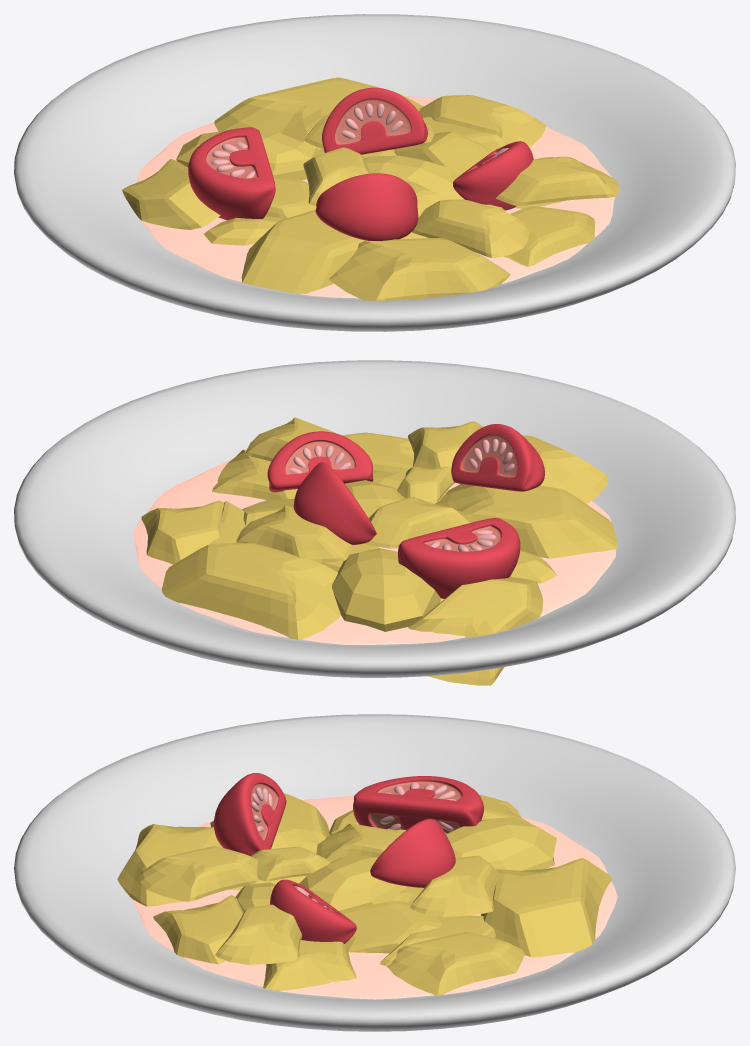
The model's file is tomato scramble egg.fbx.
3 renders of one model, top to bottom at view 1: azimuth 30°, elevation 25°; view 2: azimuth 150°, elevation 25°; view 3: azimuth 270°, elevation 25°, orthographic.
Parts seen in each view (by area): view 1: Circle.002, Circle.003, Cube.035, Cube.026, Tomato.007, Tomato.010, Tomato.009, Cube.022, Cube.040, Cube.038, Cube.025, Cube.041 (+11 smaller); view 2: Circle.002, Cube.022, Circle.003, Cube.026, Tomato.007, Cube.023, Cube.025, Tomato.010, Tomato.008, Tomato.009, Cube.039, Cube.041 (+11 smaller); view 3: Circle.002, Circle.003, Cube.022, Tomato.007, Cube.041, Cube.040, Tomato.010, Cube.023, Tomato.009, Cube.038, Cube.039, Cube.034 (+11 smaller).
Boxes of the visible parts, x1,y1,x2,y2 form: Circle.002: [14, 14, 735, 331]; Circle.003: [137, 96, 614, 298]; Cube.035: [329, 238, 510, 300]; Cube.026: [241, 210, 427, 293]; Tomato.007: [188, 127, 275, 220]; Tomato.010: [315, 173, 418, 240]; Tomato.009: [322, 87, 427, 154]; Cube.022: [214, 77, 423, 149]; Cube.040: [412, 199, 529, 257]; Cube.038: [495, 156, 619, 205]; Cube.025: [122, 159, 220, 229]; Cube.041: [419, 95, 545, 147]; Circle.002: [14, 360, 735, 677]; Cube.022: [162, 543, 340, 639]; Circle.003: [134, 461, 615, 644]; Cube.026: [435, 484, 617, 558]; Tomato.007: [398, 518, 520, 598]; Cube.023: [332, 548, 440, 631]; Cube.025: [408, 577, 543, 685]; Tomato.010: [451, 424, 544, 491]; Tomato.008: [267, 431, 373, 492]; Tomato.009: [293, 462, 376, 544]; Cube.039: [236, 505, 353, 562]; Cube.041: [141, 500, 223, 564]; Circle.002: [14, 714, 735, 1031]; Circle.003: [133, 795, 617, 999]; Cube.022: [481, 858, 611, 957]; Tomato.007: [353, 776, 483, 833]; Cube.041: [387, 932, 524, 995]; Cube.040: [140, 846, 259, 901]; Tomato.010: [214, 773, 286, 856]; Cube.023: [446, 817, 556, 870]; Tomato.009: [370, 818, 455, 887]; Cube.038: [215, 904, 302, 964]; Cube.039: [410, 855, 500, 917]; Cube.034: [153, 895, 243, 964].
Size of the model in its own units: 404 by 77.3 by 404.
